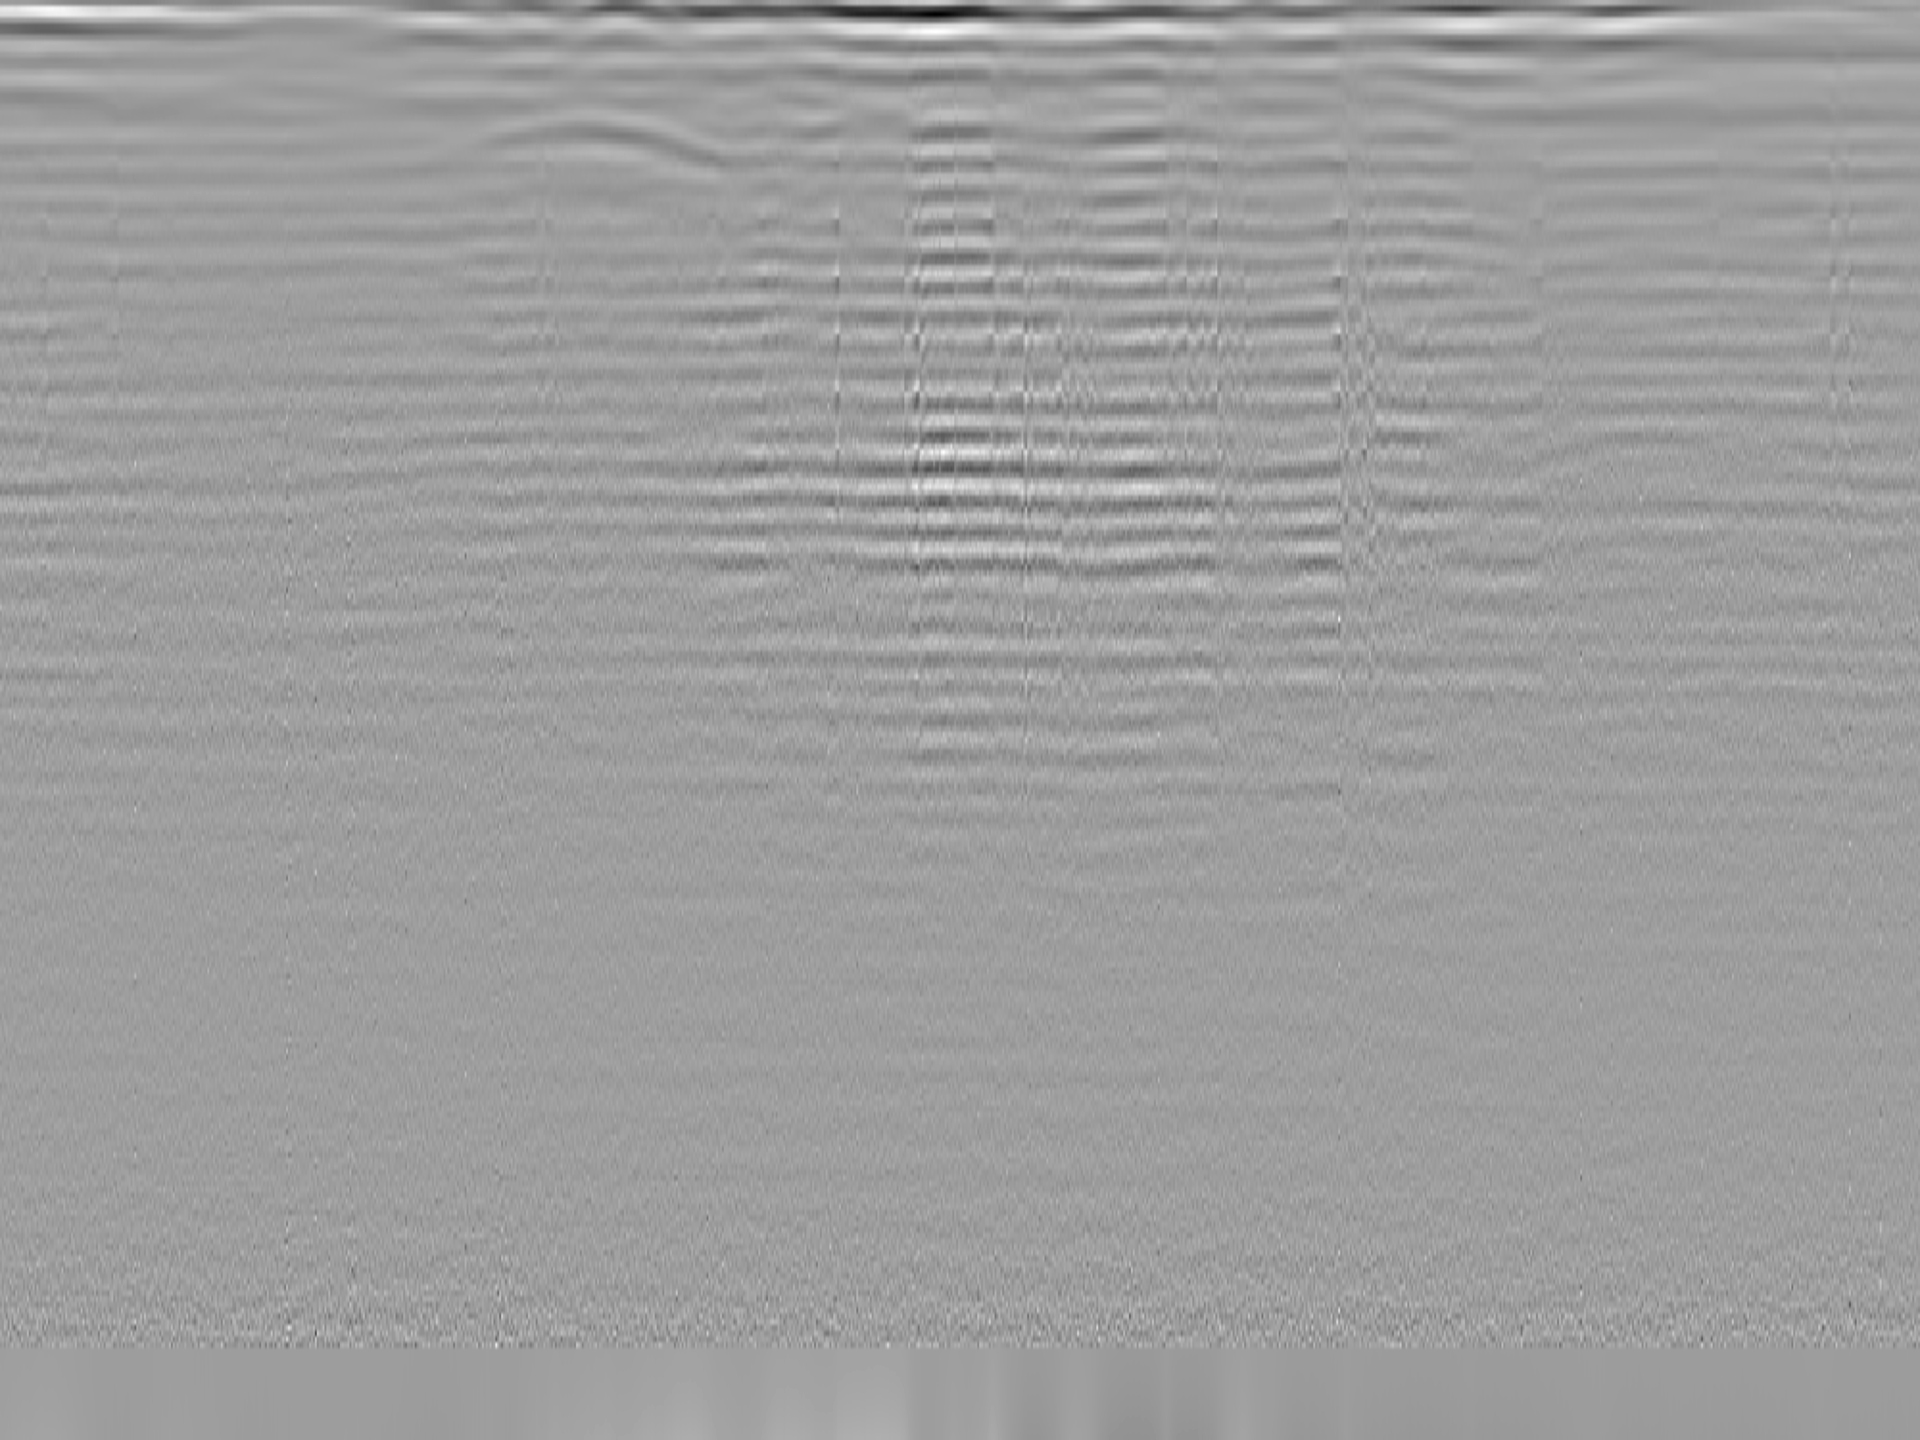Tunnel: (413, 109, 777, 178)
